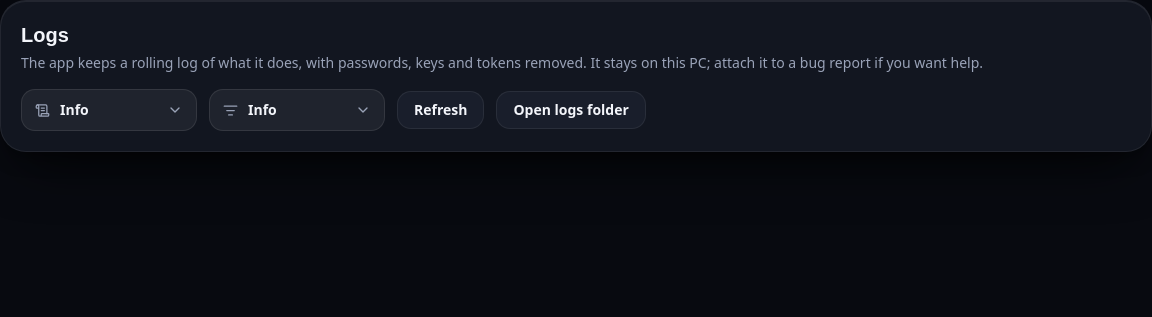
Test case: LogsCard › clears the folder alert on the next action
Click the button "Open logs folder": click(571, 110) left=496, top=91, right=646, bottom=129
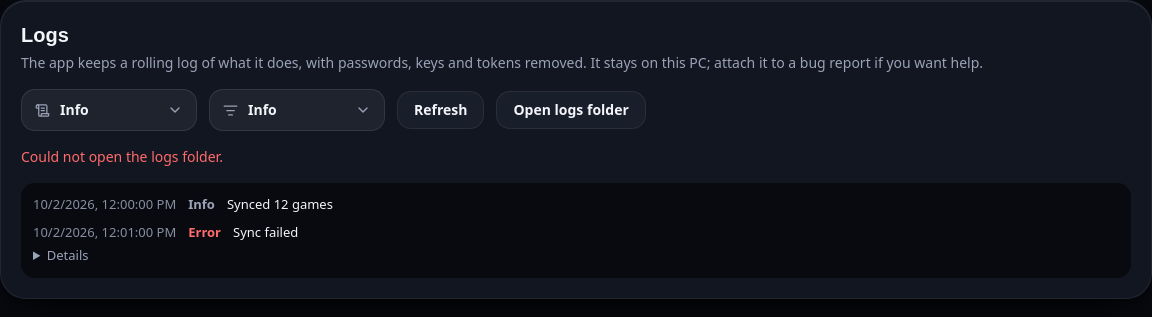
Expected: the message "Could not open the logs folder." is shown, left=21, top=147, right=223, bottom=166
Click the button "Open logs folder": click(571, 110) left=496, top=91, right=646, bottom=129
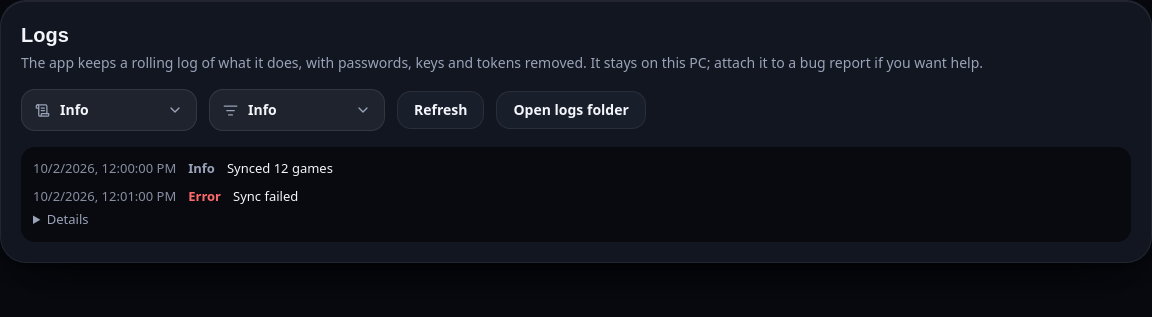
Expected: the message "Could not open the logs folder." is gone
